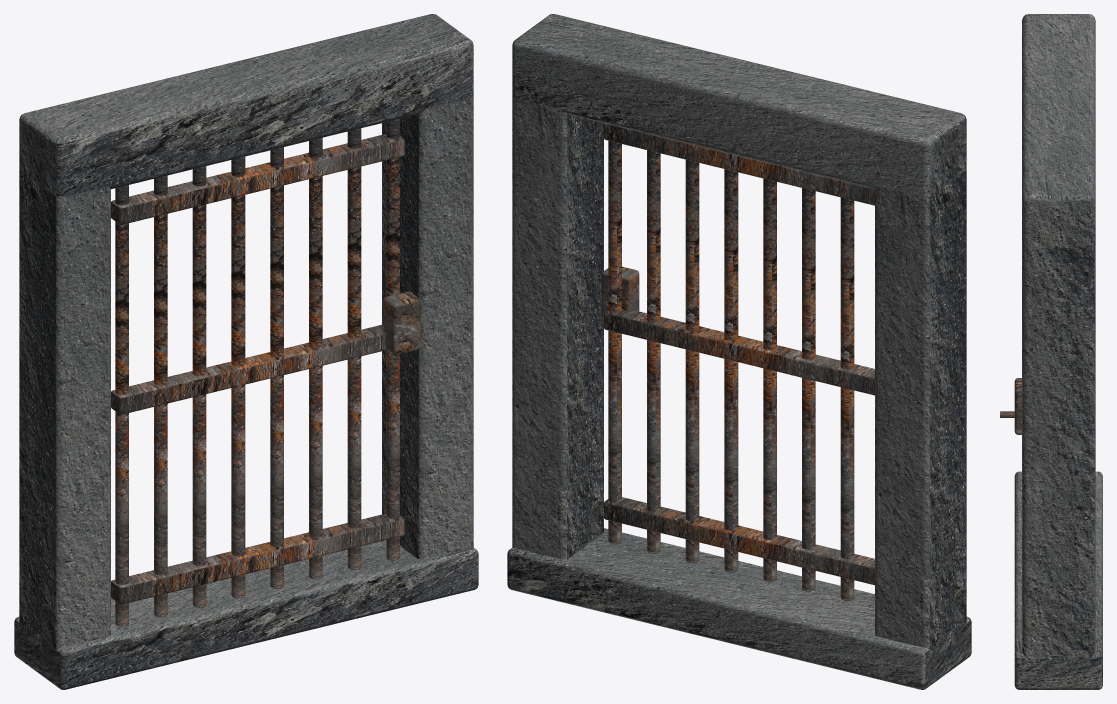
File: barred-gate-v02.glb
The picture shows the model from 3 angles, left to right: view 1: azimuth 30°, elevation 25°; view 2: azimuth 150°, elevation 25°; view 3: azimuth 270°, elevation 25°; orthographic projection. The views are drawn at different scales.
Parts seen in each view (by area): view 1: Verga superior de pedra, Jamba esquerda de pedra, Jamba direita de pedra, Soleira de pedra, Travessa superior de ferro, Travessa inferior de ferro, Travessa central de ferro, Barra vertical 4, Barra vertical 3, Barra vertical 7, Barra vertical 1, Barra vertical 2 (+4 smaller); view 2: Verga superior de pedra, Jamba esquerda de pedra, Jamba direita de pedra, Soleira de pedra, Travessa inferior de ferro, Travessa central de ferro, Barra vertical 5, Barra vertical 6, Barra vertical 2, Barra vertical 8, Barra vertical 4, Barra vertical 7 (+3 smaller); view 3: Jamba direita de pedra, Verga superior de pedra, Soleira de pedra, Placa da tranca.
Boxes of the visible parts, bbox=[...] form: Verga superior de pedra: bbox=[19, 14, 473, 197]; Jamba esquerda de pedra: bbox=[19, 170, 110, 650]; Jamba direita de pedra: bbox=[382, 96, 473, 559]; Soleira de pedra: bbox=[14, 540, 478, 689]; Travessa superior de ferro: bbox=[111, 134, 404, 224]; Travessa inferior de ferro: bbox=[111, 513, 404, 604]; Travessa central de ferro: bbox=[111, 324, 386, 414]; Barra vertical 4: bbox=[231, 156, 245, 598]; Barra vertical 3: bbox=[192, 166, 206, 607]; Barra vertical 7: bbox=[347, 128, 361, 569]; Barra vertical 1: bbox=[115, 185, 128, 626]; Barra vertical 2: bbox=[154, 175, 167, 617]; Verga superior de pedra: bbox=[512, 14, 966, 197]; Jamba esquerda de pedra: bbox=[875, 170, 966, 650]; Jamba direita de pedra: bbox=[512, 96, 603, 559]; Soleira de pedra: bbox=[507, 528, 971, 689]; Travessa inferior de ferro: bbox=[604, 497, 874, 585]; Travessa central de ferro: bbox=[604, 309, 874, 395]; Barra vertical 5: bbox=[724, 169, 738, 572]; Barra vertical 6: bbox=[685, 159, 699, 562]; Barra vertical 2: bbox=[840, 197, 854, 600]; Barra vertical 8: bbox=[608, 140, 621, 544]; Barra vertical 4: bbox=[763, 178, 776, 581]; Barra vertical 7: bbox=[647, 150, 660, 553]; Jamba direita de pedra: bbox=[1022, 245, 1095, 658]; Verga superior de pedra: bbox=[1022, 14, 1095, 247]; Soleira de pedra: bbox=[1014, 471, 1102, 689]; Placa da tranca: bbox=[1014, 378, 1021, 434].
Size of the model in its own units: 2.38 by 2.97 by 0.56.
Materials: 2 (2 with a texture image).
